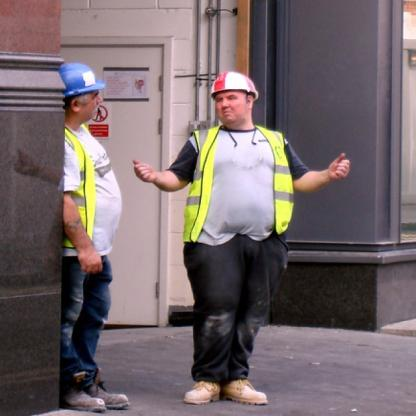bota: (81, 373, 131, 409), (64, 374, 107, 411), (223, 376, 268, 408), (182, 376, 222, 406)
capacete: (55, 60, 107, 122), (206, 72, 262, 126)
